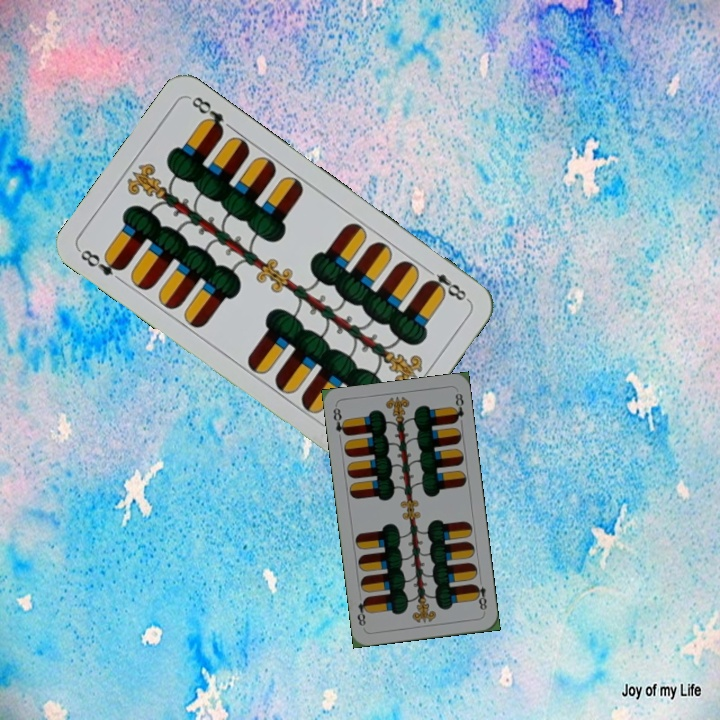E8: (421, 263, 471, 304), (75, 245, 128, 279), (470, 575, 489, 615), (329, 404, 350, 438)
